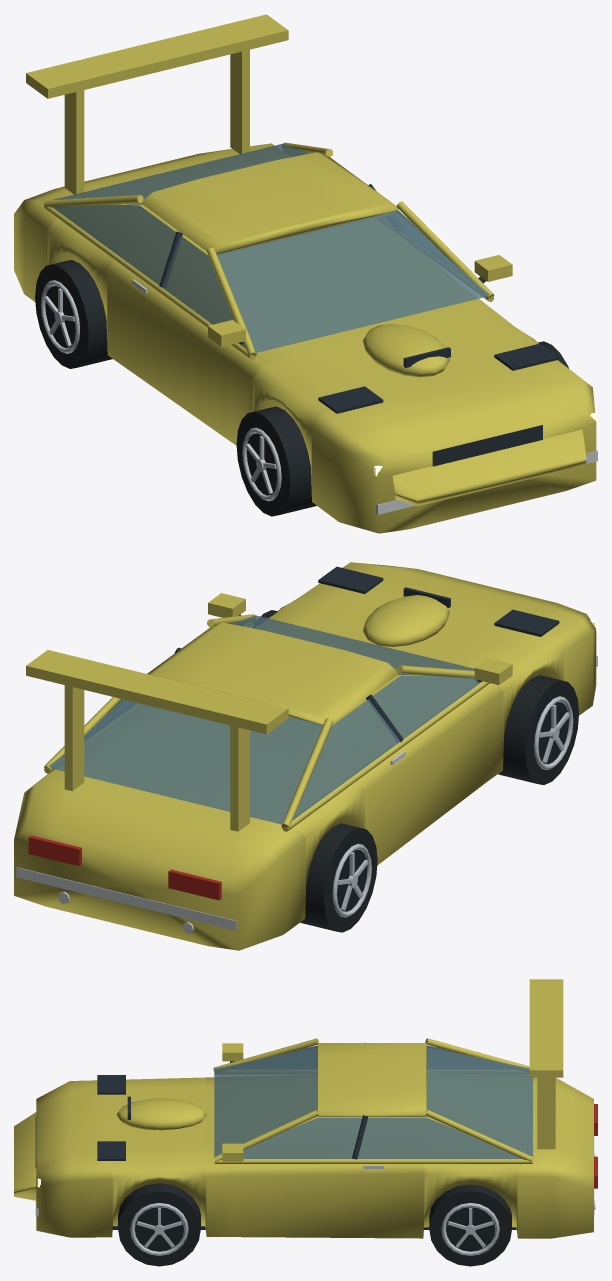
The model's file is superbird.glb.
The picture shows the model from 3 angles, top to bottom: view 1: azimuth 30°, elevation 25°; view 2: azimuth 150°, elevation 25°; view 3: azimuth 270°, elevation 25°; orthographic projection. The views are drawn at different scales.
Parts seen in each view (by area): view 1: exterior-paint, windows, tire-front-left, tire-rear-left, black-trim, rim-front-left, rim-rear-left; view 2: exterior-paint, windows, tire-front-left, tire-rear-left, black-trim, chrome, taillights, rim-front-left, rim-rear-left; view 3: exterior-paint, windows, tire-front-right, tire-rear-right, black-trim, rim-rear-right, rim-front-right.
Part boxes in pixels (x1,y1,x2,y2): exterior-paint: [14, 14, 596, 533]; windows: [51, 143, 489, 352]; tire-front-left: [236, 406, 316, 516]; tire-rear-left: [35, 260, 112, 368]; black-trim: [159, 184, 559, 466]; rim-front-left: [242, 427, 281, 501]; rim-rear-left: [40, 280, 79, 353]; exterior-paint: [14, 562, 596, 950]; windows: [49, 615, 482, 824]; tire-front-left: [498, 675, 578, 784]; tire-rear-left: [300, 823, 377, 932]; black-trim: [174, 566, 559, 742]; chrome: [16, 656, 597, 933]; taillights: [28, 835, 221, 900]; rim-front-left: [534, 696, 573, 769]; rim-rear-left: [332, 843, 371, 917]; exterior-paint: [14, 979, 593, 1238]; windows: [214, 1045, 532, 1158]; tire-front-right: [118, 1183, 200, 1266]; tire-rear-right: [429, 1184, 511, 1266]; black-trim: [35, 1042, 516, 1229]; rim-rear-right: [441, 1203, 499, 1255]; rim-front-right: [130, 1203, 188, 1255].
Size of the model in its own units: 2.04 by 1.59 by 4.5.
